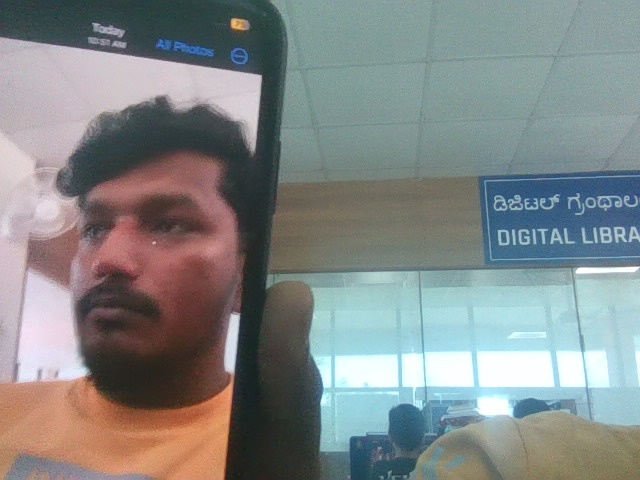fake: (40, 70, 268, 393)
